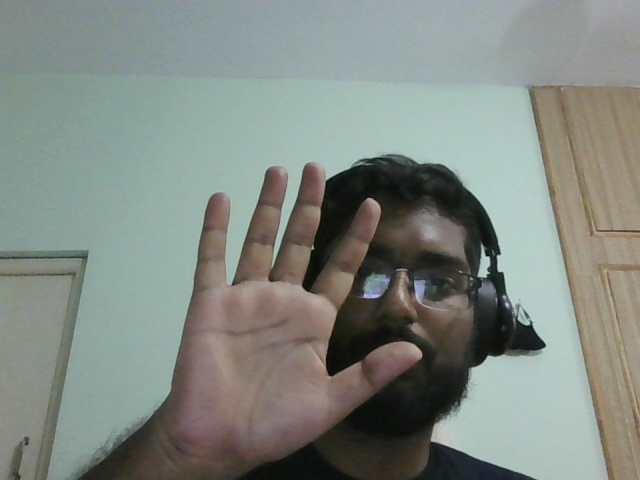Hello: (184, 154, 419, 456)
